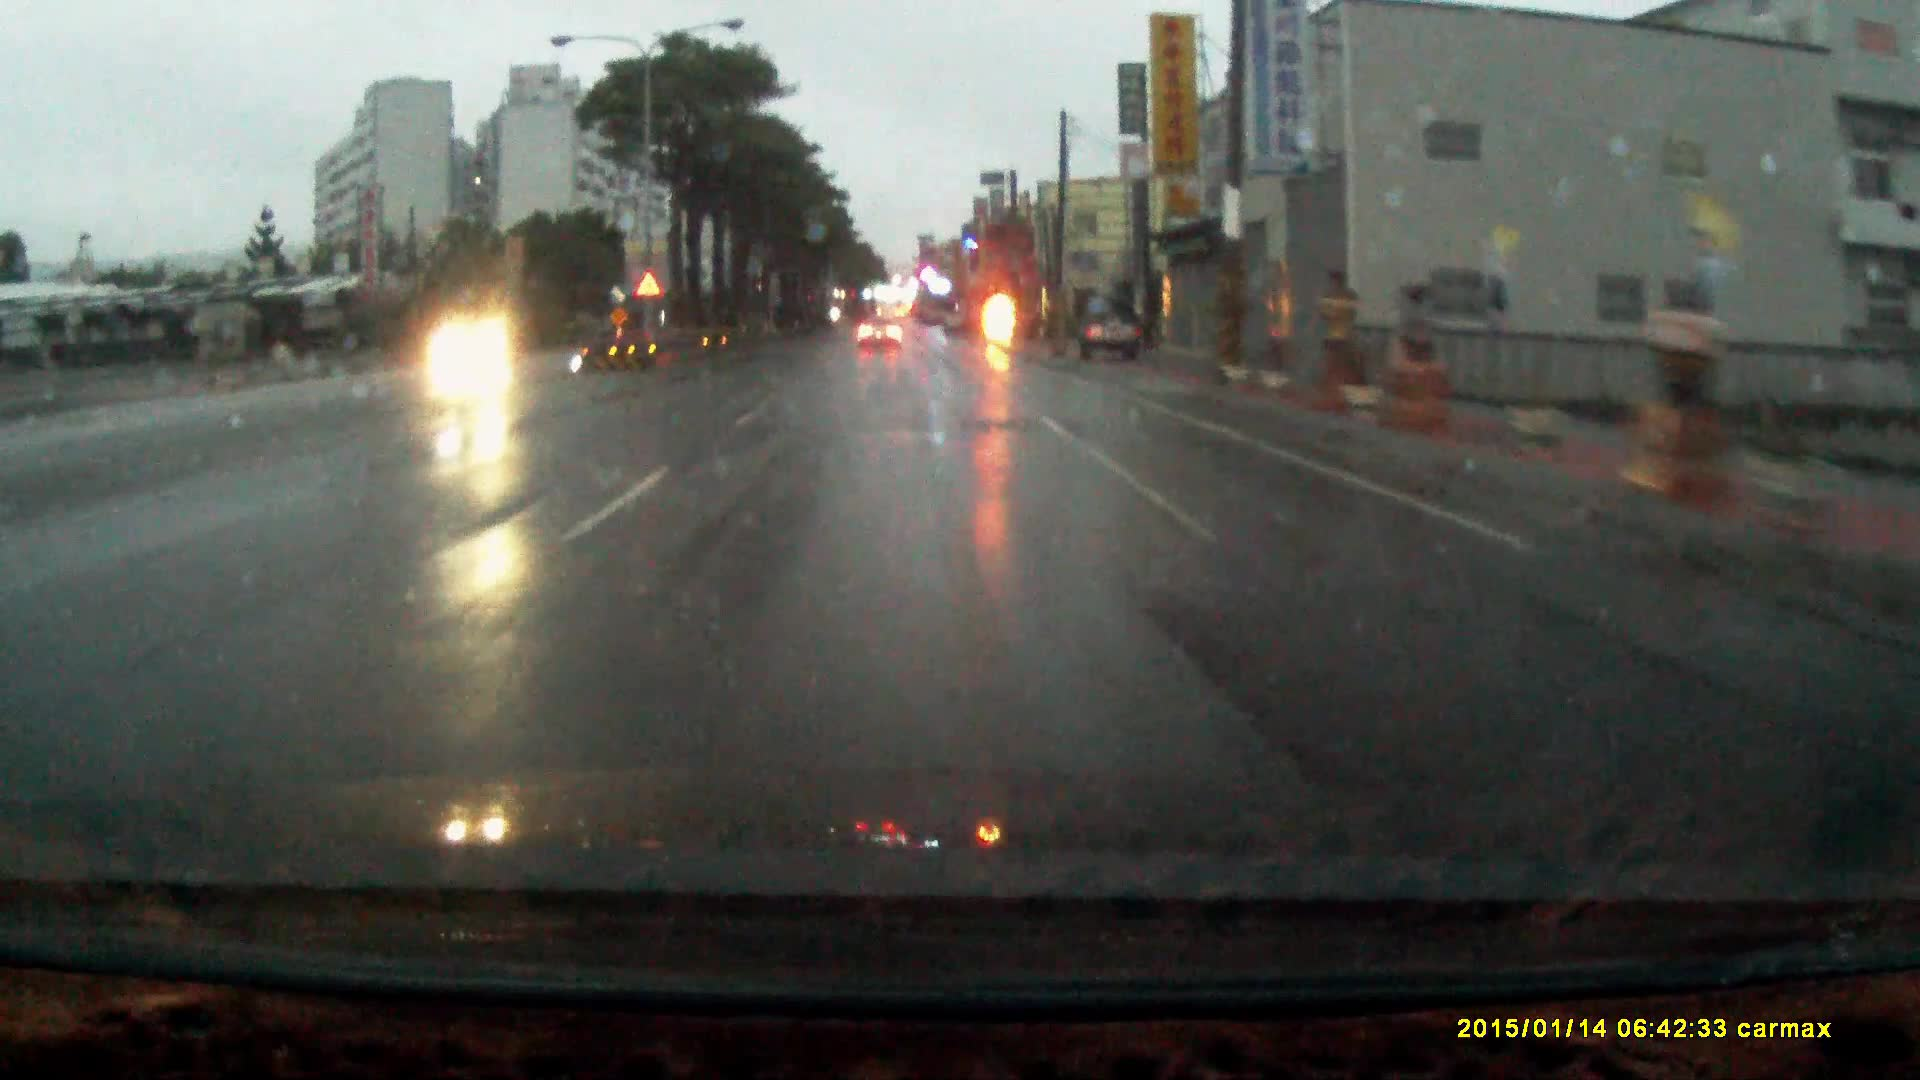vehicle: (1079, 284, 1145, 347), (858, 303, 906, 340)
